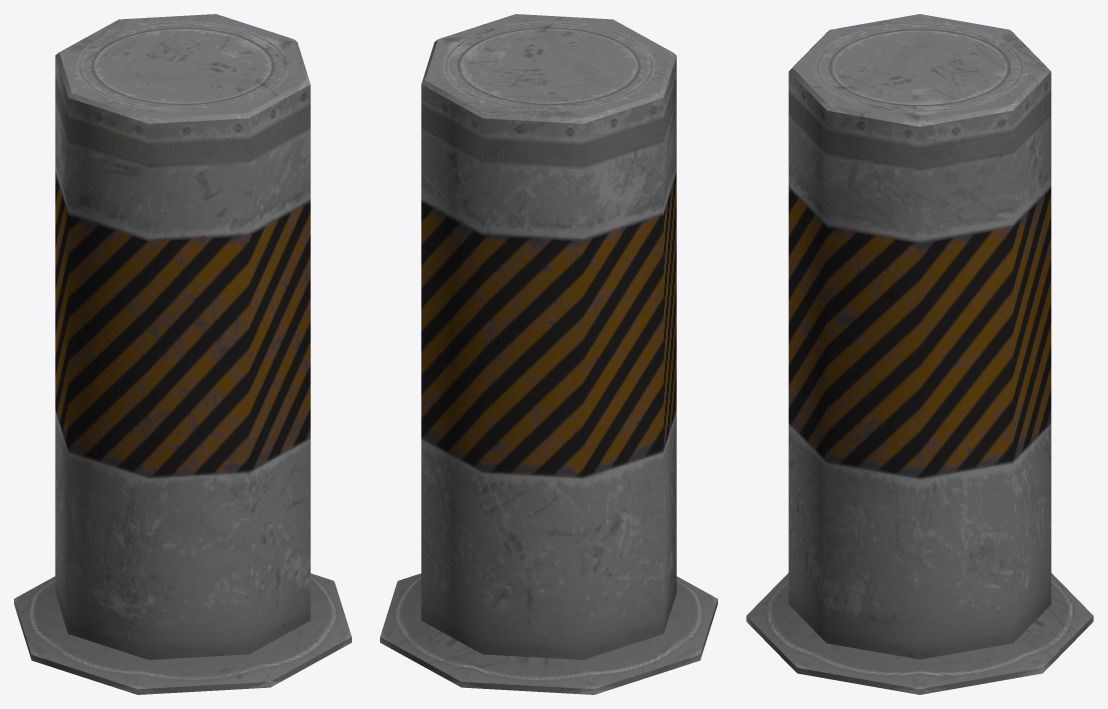
Rendered from TRF0710007.fbx.
3 renders of one model, left to right at view 1: azimuth 30°, elevation 25°; view 2: azimuth 150°, elevation 25°; view 3: azimuth 270°, elevation 25°, orthographic.
Parts seen in each view (by area): view 1: smTRF0710007; view 2: smTRF0710007; view 3: smTRF0710007.
Boxes of the visible parts, x1=… form: smTRF0710007: x1=14, y1=14, x2=351, y2=694; smTRF0710007: x1=380, y1=14, x2=717, y2=694; smTRF0710007: x1=746, y1=14, x2=1093, y2=694.
Bounding box in the file's own units: 88.31 × 155 × 88.31.
Materials: 1 (1 with a texture image).
